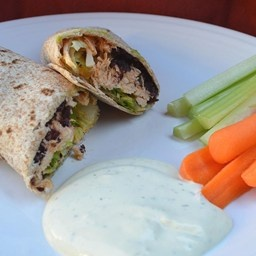background: (17, 22, 102, 102), (0, 11, 65, 78)
